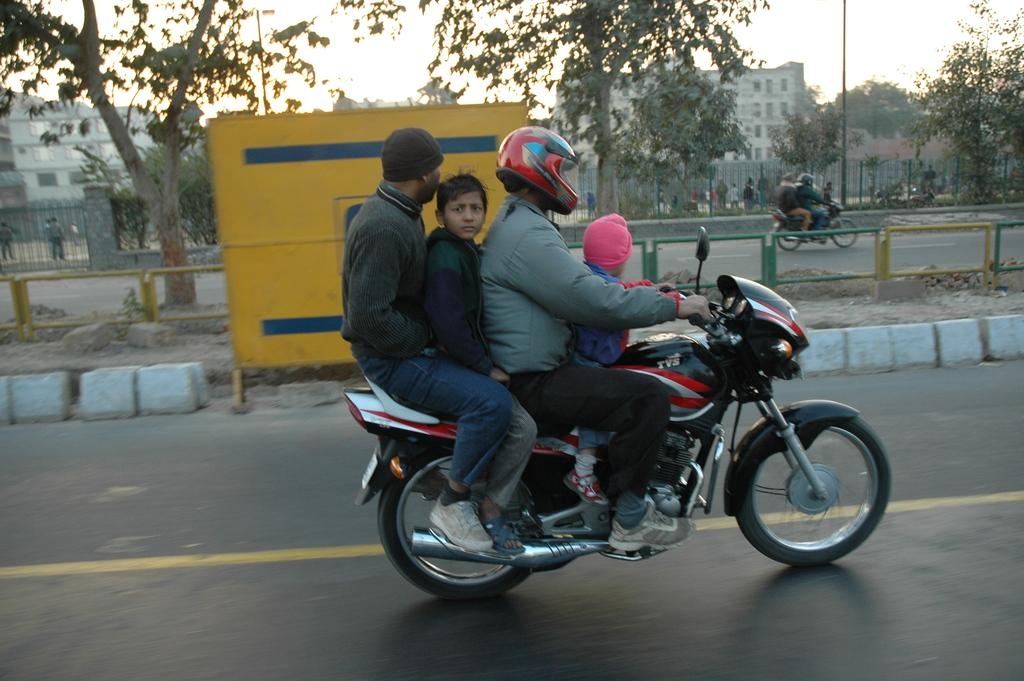helmet: (495, 125, 580, 215)
nohelmet: (378, 125, 446, 209), (433, 172, 490, 244), (581, 211, 635, 283)
